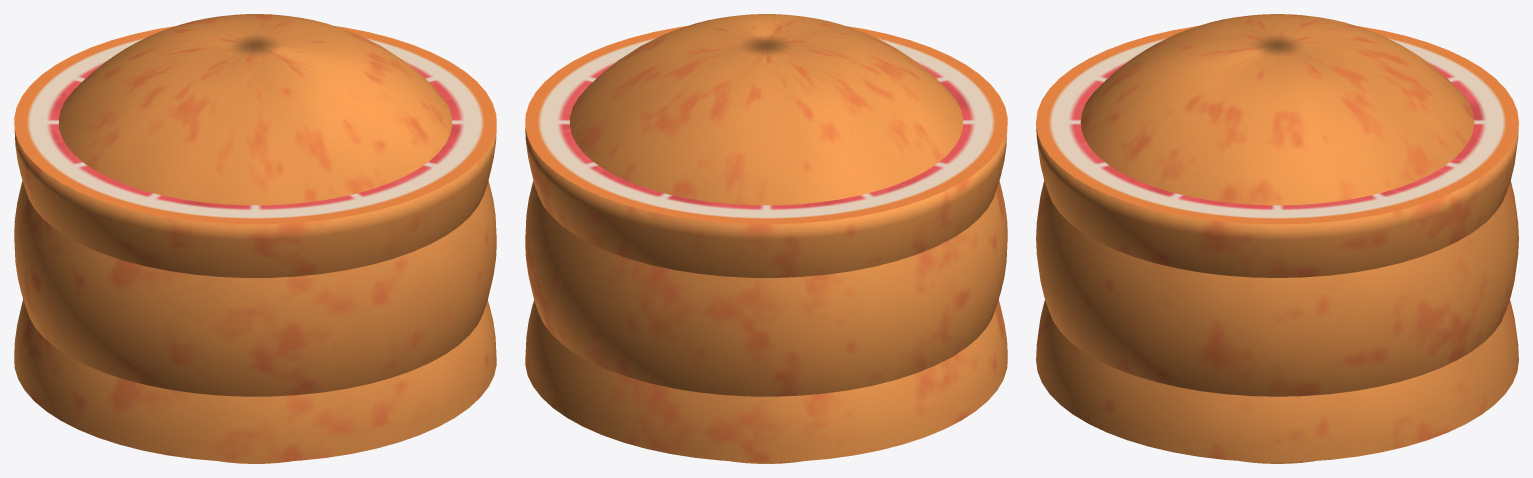
The model's file is grapefruit.glb.
3 views of the same model, side by side, from view 1: azimuth 30°, elevation 25°; view 2: azimuth 150°, elevation 25°; view 3: azimuth 270°, elevation 25° (orthographic).
Visible parts, largest first — view 1: whole, bot, top; view 2: whole, bot, top; view 3: whole, bot, top.
Part boxes in pixels (x1=…): whole: x1=14, y1=14, x2=496, y2=463; bot: x1=14, y1=26, x2=496, y2=277; top: x1=14, y1=299, x2=496, y2=462; whole: x1=525, y1=14, x2=1007, y2=463; bot: x1=525, y1=26, x2=1007, y2=277; top: x1=525, y1=299, x2=1007, y2=462; whole: x1=1036, y1=14, x2=1518, y2=463; bot: x1=1036, y1=26, x2=1518, y2=277; top: x1=1036, y1=300, x2=1518, y2=462.
Size of the model in its own units: 0.74 by 0.6562 by 0.74.
Materials: 2 (2 with a texture image).
